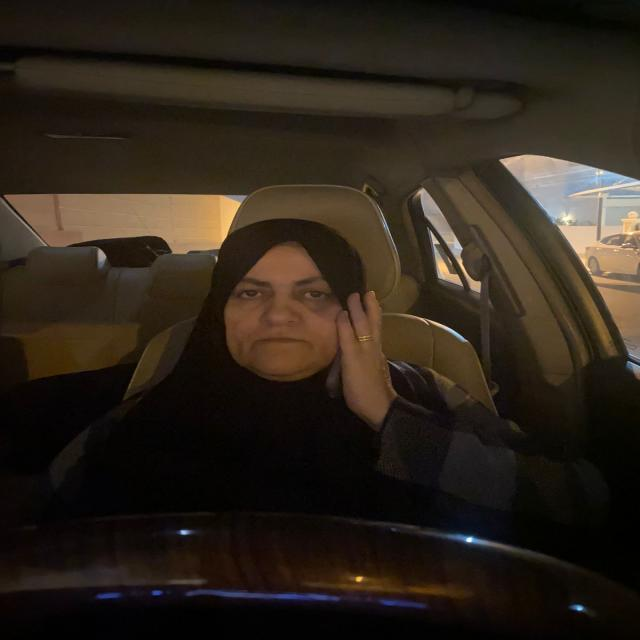mobile: (328, 299, 364, 404)
person: (222, 223, 334, 385)
